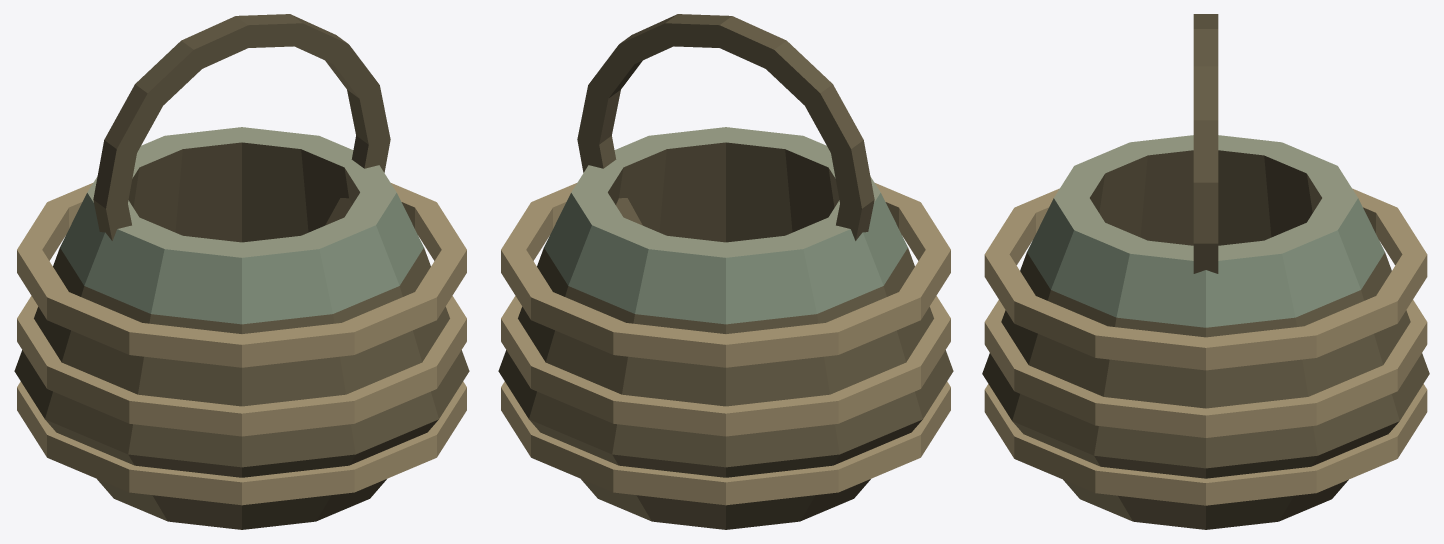
The model's file is woven-basket.glb.
The picture shows the model from 3 angles, left to right: view 1: azimuth 30°, elevation 25°; view 2: azimuth 150°, elevation 25°; view 3: azimuth 270°, elevation 25°; orthographic projection.
Parts seen in each view (by area): view 1: woven-basket__body; view 2: woven-basket__body; view 3: woven-basket__body.
Part boxes in pixels (box(x1,y1,x2,y2)): woven-basket__body: box(14, 14, 469, 529); woven-basket__body: box(498, 14, 953, 529); woven-basket__body: box(982, 14, 1429, 529).
Size of the model in its own units: 0.9 by 0.975 by 0.9.
